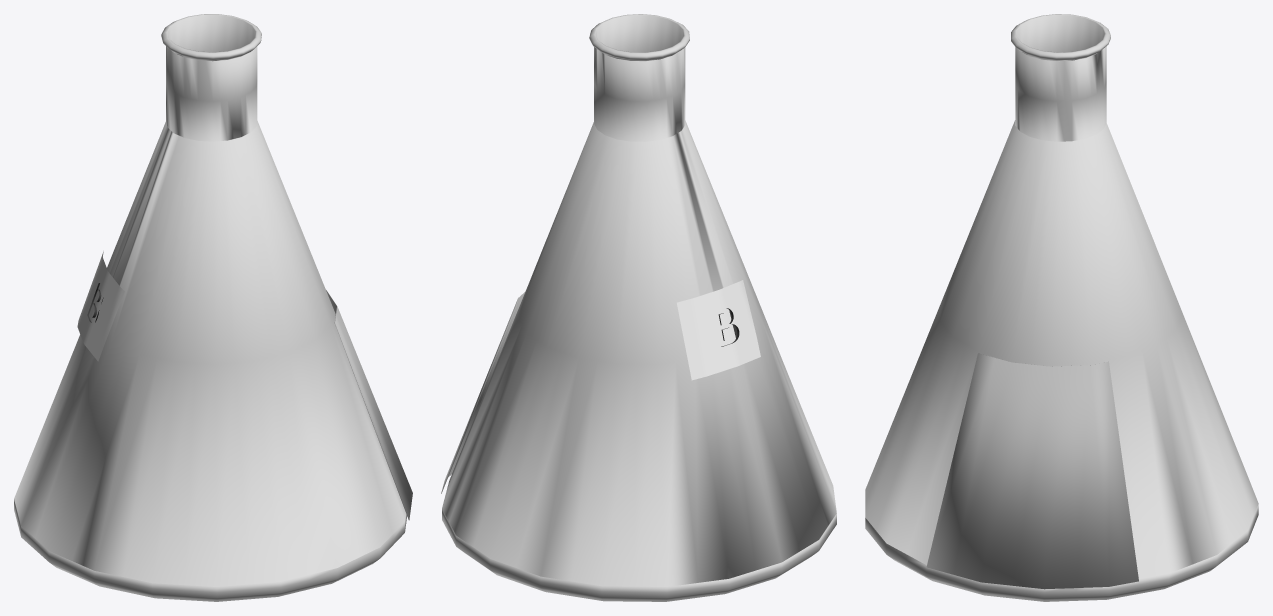
The model's file is fixSoln B.fbx.
3 renders of one model, left to right at view 1: azimuth 30°, elevation 25°; view 2: azimuth 150°, elevation 25°; view 3: azimuth 270°, elevation 25°, orthographic.
Visible parts, largest first — view 1: Conical Flask.003; view 2: Conical Flask.003; view 3: Conical Flask.003.
Boxes of the visible parts, x1,y1,x2,y2 form: Conical Flask.003: (14, 14, 412, 601); Conical Flask.003: (441, 14, 836, 601); Conical Flask.003: (865, 14, 1258, 601).
Bounding box in the file's own units: 8.93 × 12.19 × 8.79.
4 materials, 1 textured.
